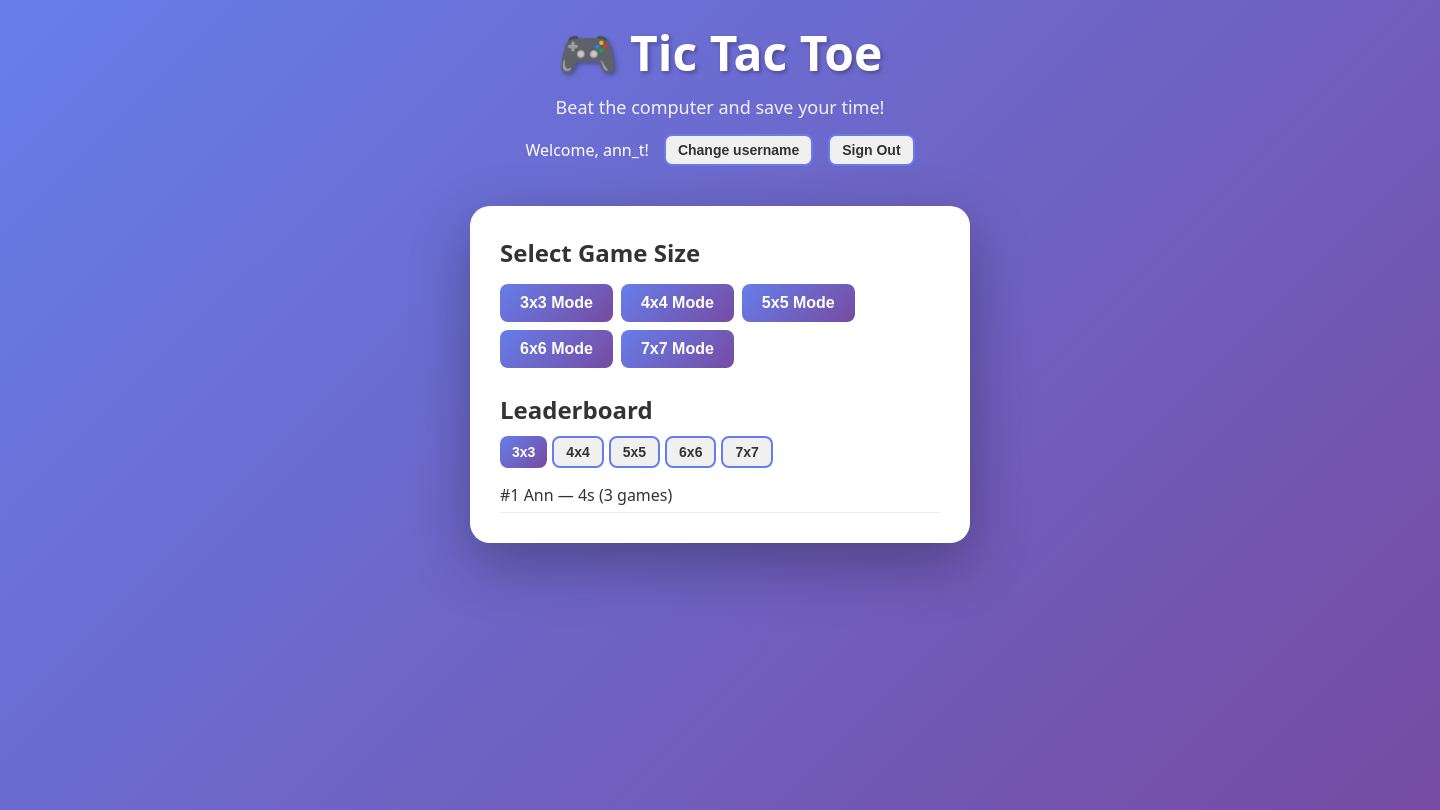
App: session › restores a stored session, and signing out clears it
Expected: the text "Welcome, ann_t!" is shown, x1=525 y1=139 x2=649 y2=161
Click the button "Sign Out" at (871, 150), box x1=828 y1=134 x2=915 y2=166
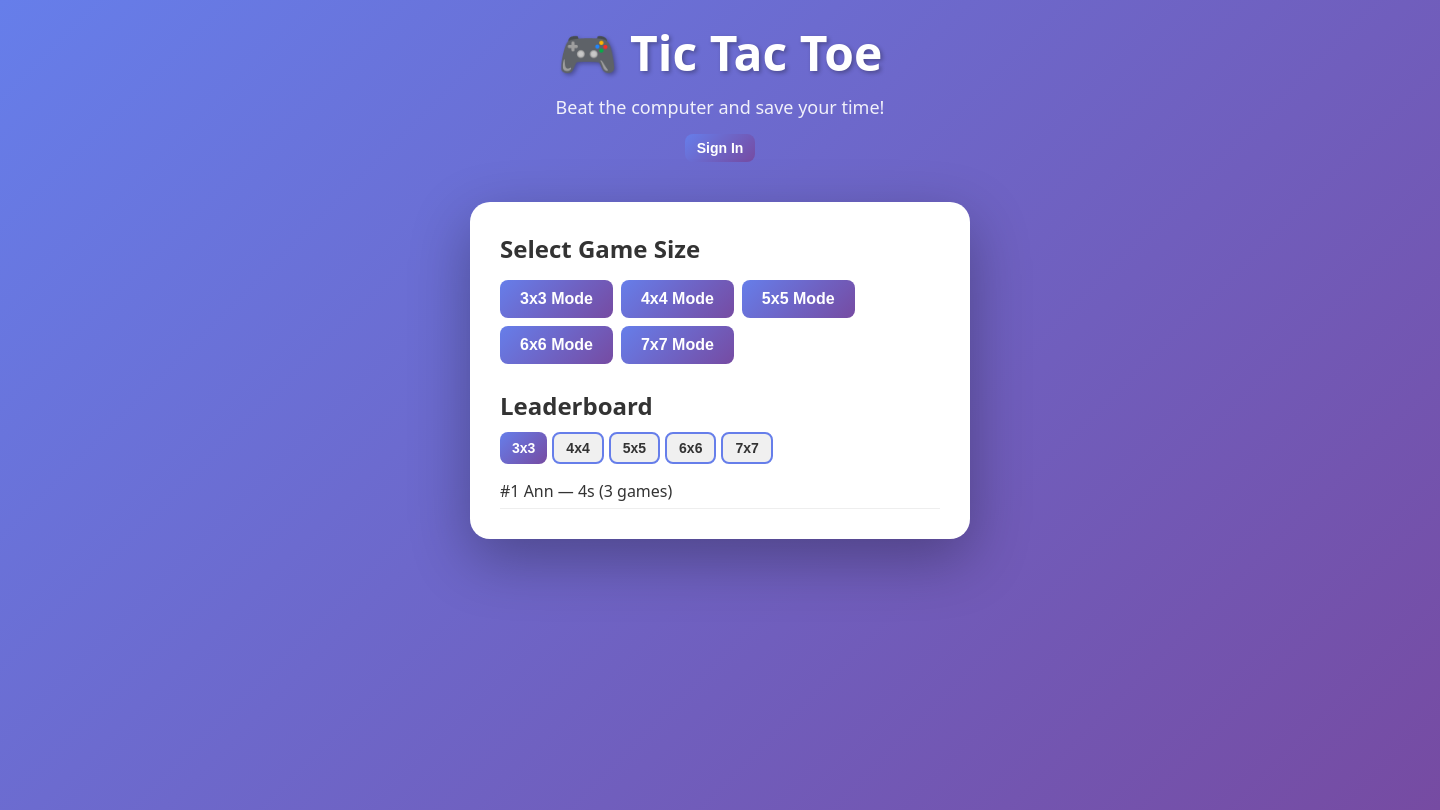
Now the button "Sign In" is shown, box x1=685 y1=134 x2=755 y2=162
